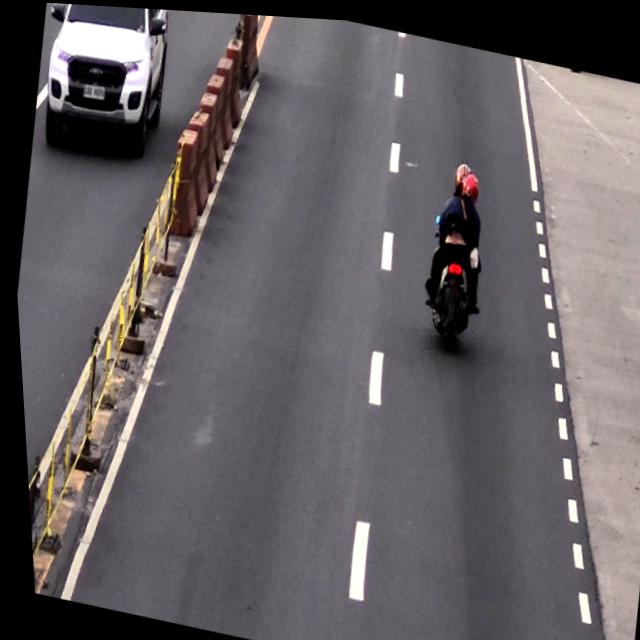Motorcycle: (412, 156, 497, 354)
